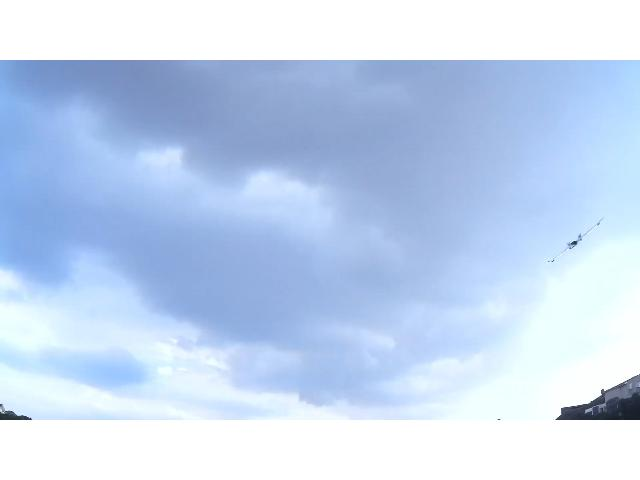Anti-Drone: (546, 215, 604, 262)
